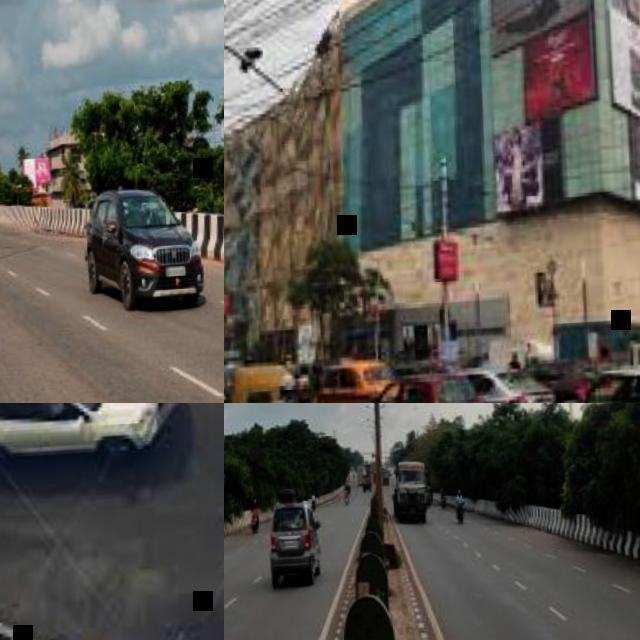car: (86, 189, 202, 312), (272, 500, 320, 586), (392, 463, 431, 519)
